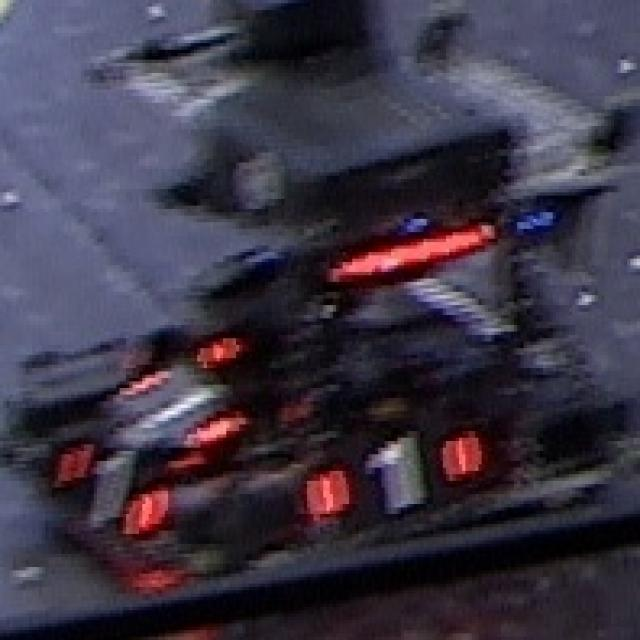R1: (304, 431, 482, 524), (55, 441, 168, 537), (116, 361, 240, 441)
